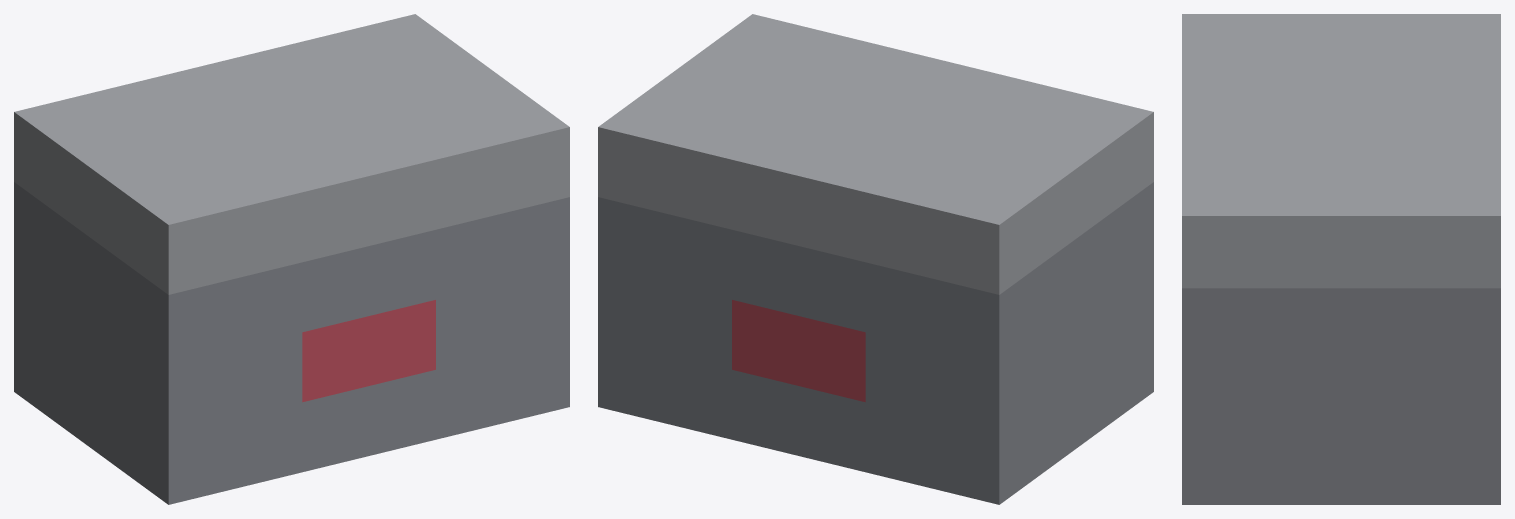
Rendered from ration_grise.glb.
The picture shows the model from 3 angles, left to right: view 1: azimuth 30°, elevation 25°; view 2: azimuth 150°, elevation 25°; view 3: azimuth 270°, elevation 25°; orthographic projection. The views are drawn at different scales.
Parts seen in each view (by area): view 1: main; view 2: main; view 3: main.
Part boxes in pixels (x1,y1,x2,y2): main: [14, 14, 569, 504]; main: [598, 14, 1153, 504]; main: [1182, 14, 1500, 504].
Size of the model in its own units: 0.375 by 0.25 by 0.25.
